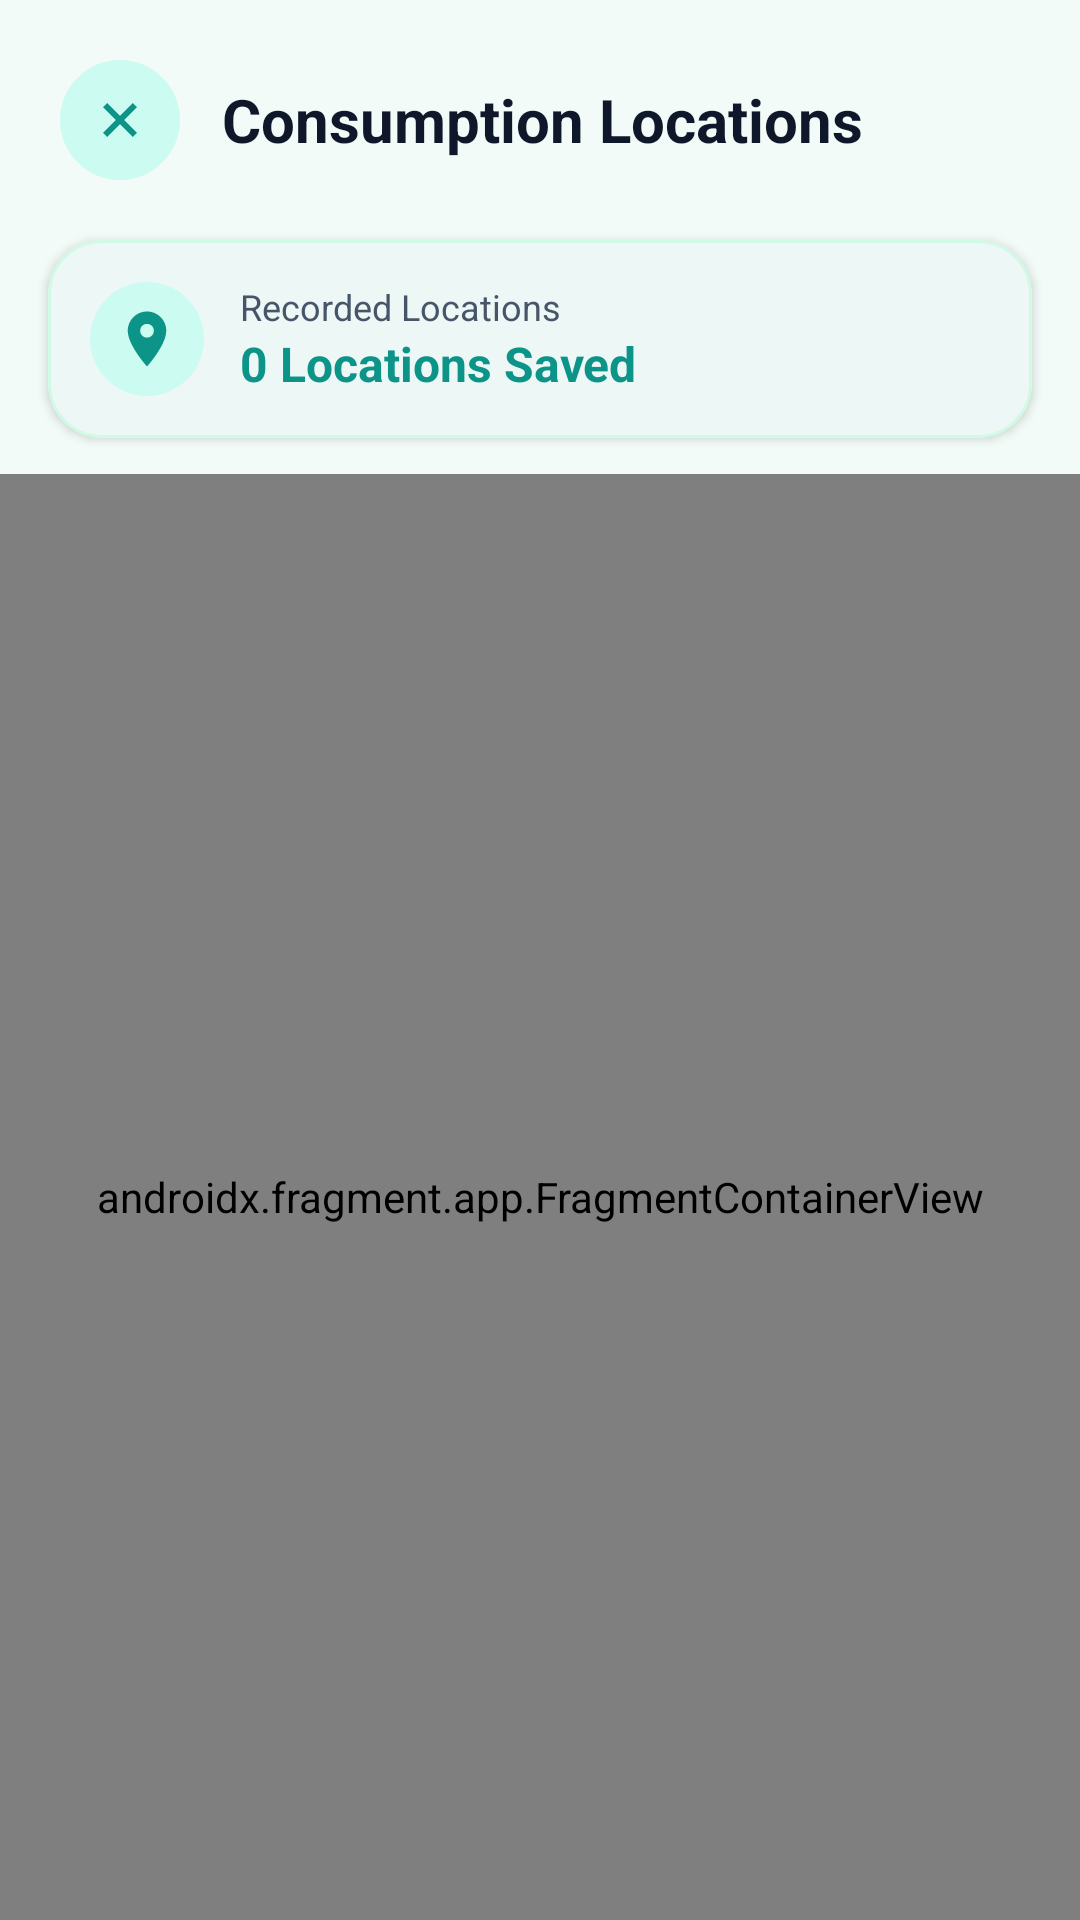

Screen size 1080 × 1920. Icon name, then its box in pixels as BBox(x1, y1, x2, y2):
Location Markers: BBox(127, 311, 167, 366)
